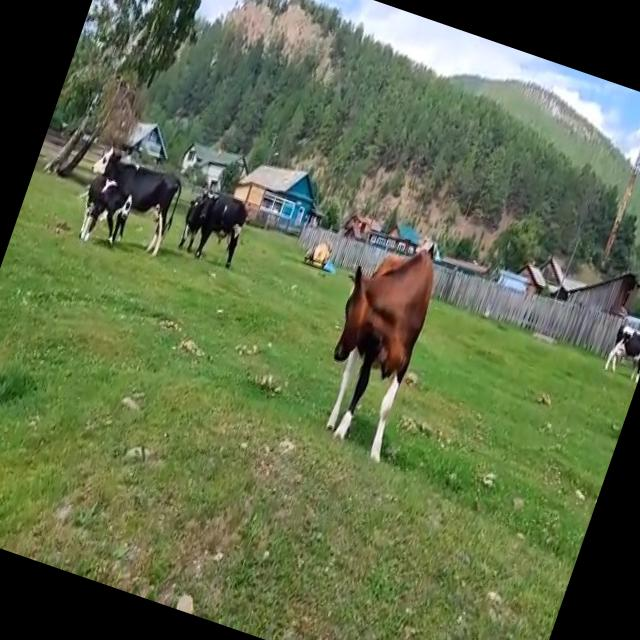cow: (333, 250, 433, 459), (81, 147, 180, 255), (183, 192, 246, 266)
